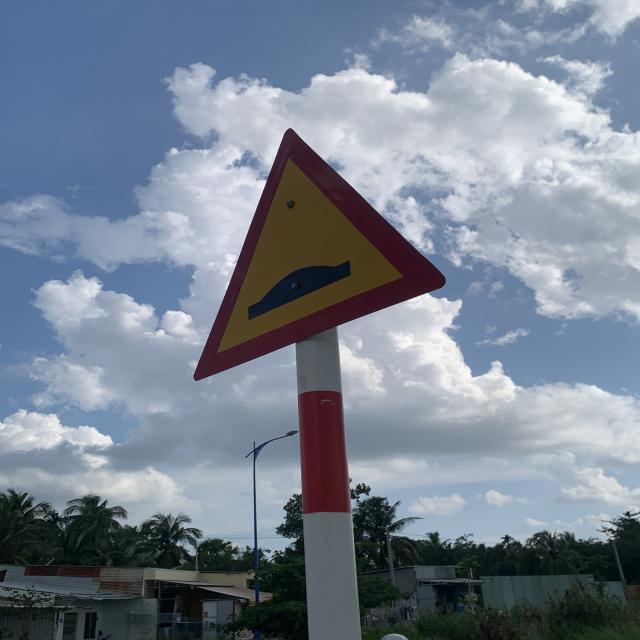Duong_Cong_Ben_Phai: (191, 124, 446, 379)
